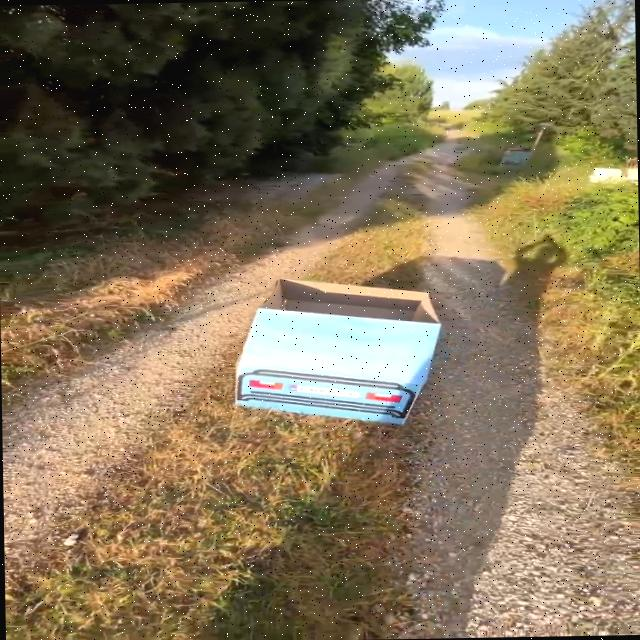blue_car: (180, 261, 488, 444)
